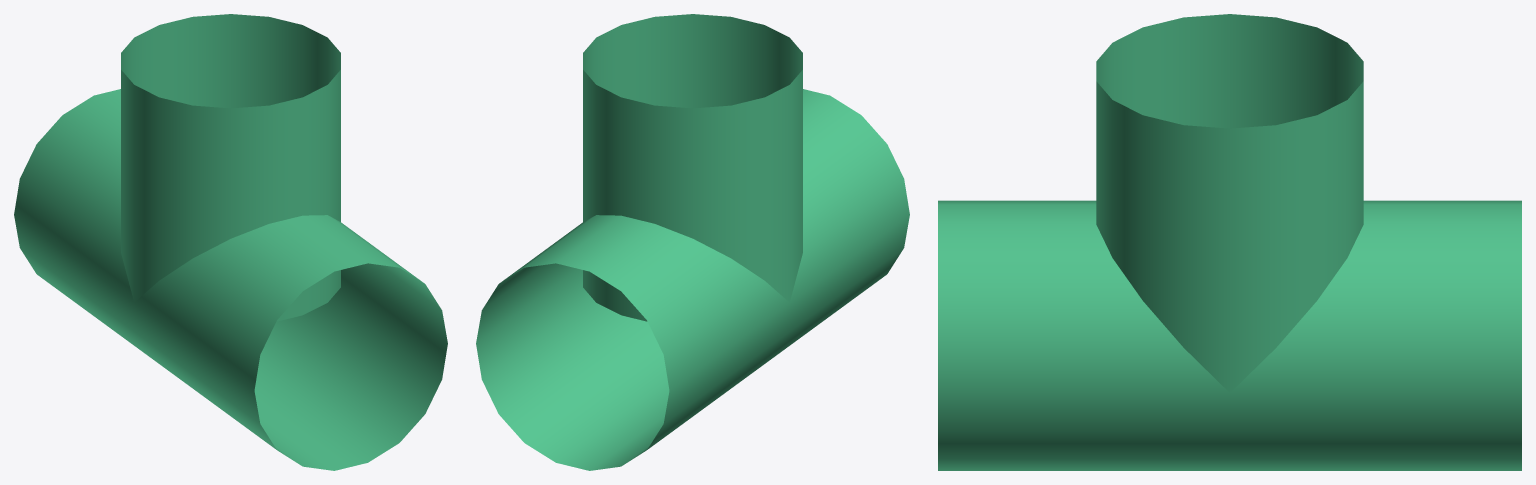
Rendered from PipeT.fbx.
3 views of the same model, side by side, from view 1: azimuth 30°, elevation 25°; view 2: azimuth 150°, elevation 25°; view 3: azimuth 270°, elevation 25° (orthographic). The views are drawn at different scales.
Parts seen in each view (by area): view 1: PipeT:Tpipe; view 2: PipeT:Tpipe; view 3: PipeT:Tpipe.
Part boxes in pixels (<box>): PipeT:Tpipe: <box>14,14,447,470</box>; PipeT:Tpipe: <box>476,14,909,470</box>; PipeT:Tpipe: <box>938,14,1521,470</box>.
Bounding box in the file's own units: 4.64 × 7.29 × 10.
